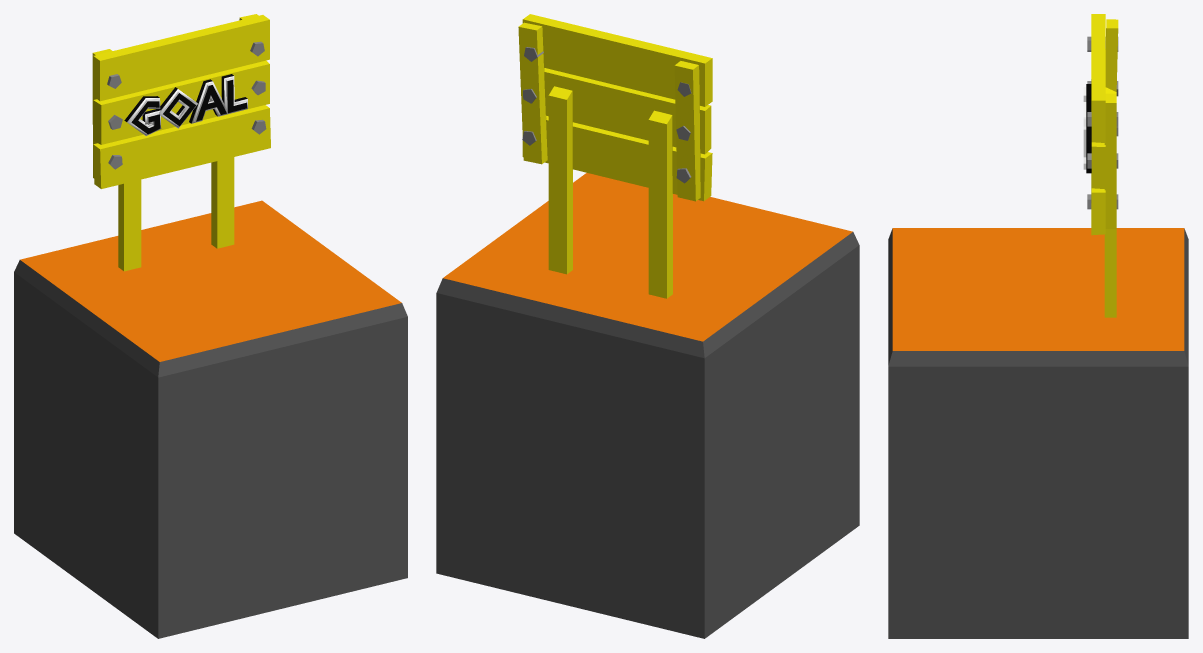
File: goal_tile.glb
3 renders of one model, left to right at view 1: azimuth 30°, elevation 25°; view 2: azimuth 150°, elevation 25°; view 3: azimuth 270°, elevation 25°, orthographic. The views are drawn at different scales.
Visible parts, largest first — view 1: GoalTile; view 2: GoalTile; view 3: GoalTile.
Boxes of the visible parts, left/top/right/bottom form: GoalTile: left=14, top=14, right=407, bottom=638; GoalTile: left=436, top=14, right=859, bottom=638; GoalTile: left=888, top=14, right=1188, bottom=638.
Bounding box in the file's own units: 2 × 3.8 × 2.
